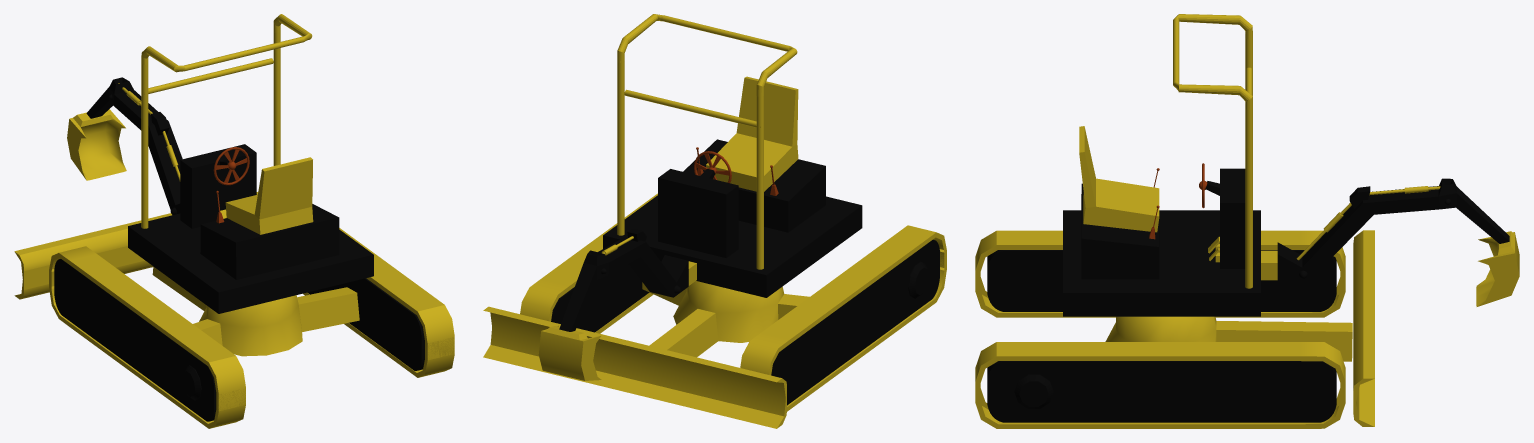
3 renders of one model, left to right at view 1: azimuth 30°, elevation 25°; view 2: azimuth 150°, elevation 25°; view 3: azimuth 270°, elevation 25°, orthographic. The views are drawn at different scales.
Parts seen in each view (by area): view 1: Box001, Cylinder001, Box002, Cylinder002, Cylinder005, Box004, Cylinder008, Box003, Box008, Box010, Sphere001; view 2: Box001, Cylinder001, Box002, Cylinder002, Box004, Cylinder005, Box008, Box003, Cylinder008, Box010, Sphere001; view 3: Box003, Box001, Cylinder008, Cylinder001, Box002, Box008, Cylinder002, Box004, Cylinder005, Box010, Box007.
Part boxes in pixels (bbox=[...]): Box001: bbox=[128, 144, 373, 313]; Cylinder001: bbox=[14, 192, 359, 356]; Box002: bbox=[54, 259, 216, 421]; Cylinder002: bbox=[49, 246, 245, 428]; Cylinder005: bbox=[141, 14, 312, 228]; Box004: bbox=[225, 157, 313, 234]; Cylinder008: bbox=[303, 228, 454, 377]; Box003: bbox=[307, 278, 424, 370]; Box008: bbox=[86, 77, 182, 215]; Box010: bbox=[67, 109, 126, 180]; Sphere001: bbox=[213, 147, 249, 185]; Box001: bbox=[603, 139, 862, 297]; Cylinder001: bbox=[483, 281, 809, 428]; Box002: bbox=[771, 239, 939, 405]; Cylinder002: bbox=[740, 225, 946, 411]; Box004: bbox=[706, 76, 798, 191]; Cylinder005: bbox=[617, 14, 797, 269]; Box008: bbox=[559, 229, 688, 331]; Box003: bbox=[551, 264, 649, 332]; Cylinder008: bbox=[520, 193, 657, 333]; Box010: bbox=[538, 325, 601, 380]; Sphere001: bbox=[694, 151, 731, 183]; Box003: bbox=[987, 361, 1336, 422]; Box001: bbox=[1063, 168, 1260, 316]; Cylinder008: bbox=[975, 342, 1345, 428]; Cylinder001: bbox=[1105, 230, 1374, 426]; Box002: bbox=[987, 250, 1336, 311]; Box008: bbox=[1277, 178, 1509, 281]; Cylinder002: bbox=[975, 230, 1345, 317]; Box004: bbox=[1079, 126, 1159, 232]; Cylinder005: bbox=[1173, 14, 1252, 288]; Box010: bbox=[1476, 231, 1519, 306]; Box007: bbox=[1261, 250, 1277, 280].
Size of the model in its own units: 67.44 by 67.03 by 105.
